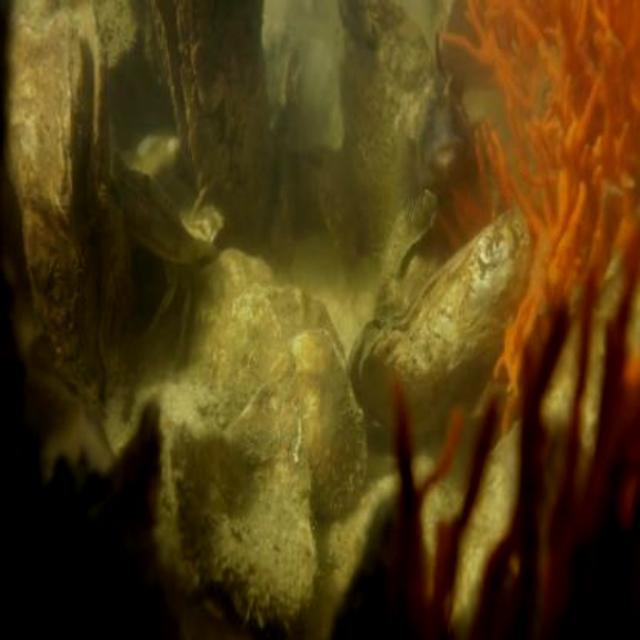Oyster-Closed: (7, 6, 131, 405), (348, 207, 528, 450), (199, 282, 369, 527), (310, 0, 435, 271), (195, 249, 278, 387)
Oyster-Open: (154, 0, 280, 249)
